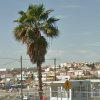Palm tree: (12, 4, 62, 85)
